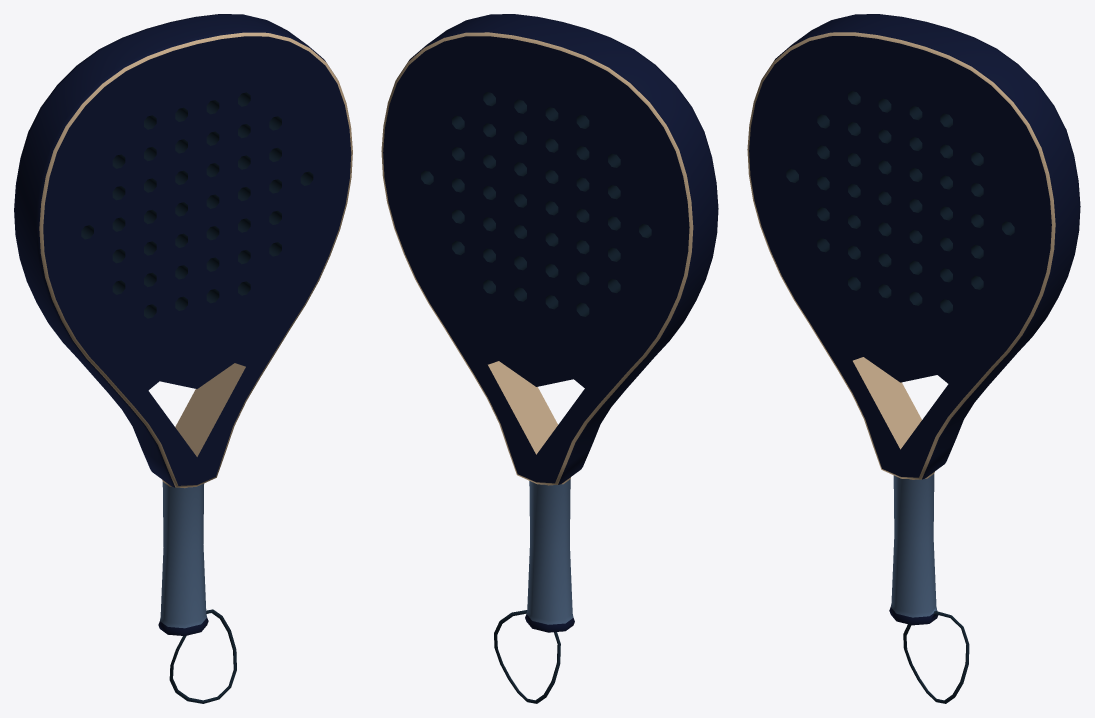
The model's file is paleta.medium.glb.
3 renders of one model, left to right at view 1: azimuth 30°, elevation 25°; view 2: azimuth 150°, elevation 25°; view 3: azimuth 330°, elevation 25°, orthographic.
Visible parts, largest first — view 1: Paleta_Vibo; view 2: Paleta_Vibo; view 3: Paleta_Vibo.
Part boxes in pixels (left/top/right/bottom): Paleta_Vibo: left=14, top=14, right=352, bottom=703; Paleta_Vibo: left=381, top=14, right=718, bottom=703; Paleta_Vibo: left=747, top=14, right=1080, bottom=703.
Bounding box in the file's own units: 0.2518 × 0.5184 × 0.038.
